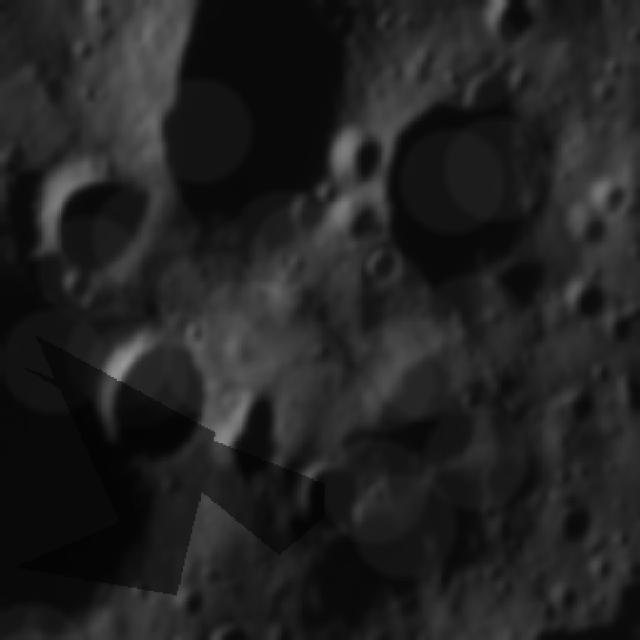crater: (19, 174, 152, 280), (89, 341, 211, 456), (291, 459, 363, 541), (214, 394, 281, 478), (321, 126, 381, 179), (562, 274, 609, 318), (366, 243, 396, 294), (289, 194, 326, 234), (561, 506, 590, 548)
